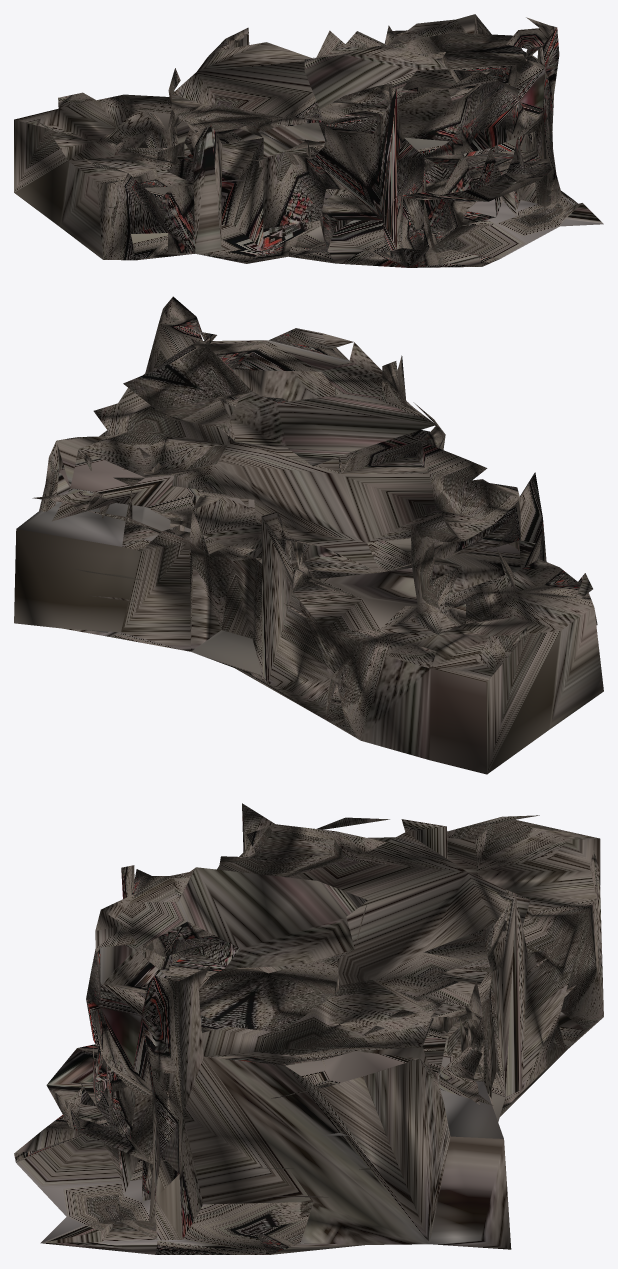
File: planet13.glb
3 views of the same model, one above another, from view 1: azimuth 30°, elevation 25°; view 2: azimuth 150°, elevation 25°; view 3: azimuth 270°, elevation 25° (orthographic). The views are drawn at different scales.
Parts seen in each view (by area): view 1: planet13; view 2: planet13; view 3: planet13.
Part boxes in pixels (x1,y1,x2,y2): planet13: [14, 14, 603, 267]; planet13: [14, 296, 603, 774]; planet13: [14, 803, 603, 1254].
Bounding box in the file's own units: 35.8 × 14.55 × 29.06.
1 material, 1 textured.
